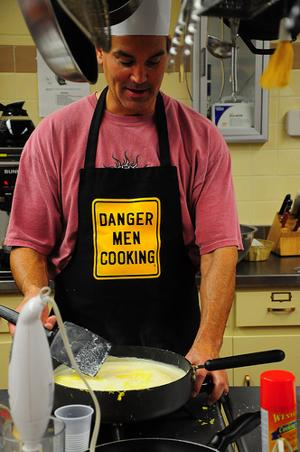person: (7, 3, 240, 400)
